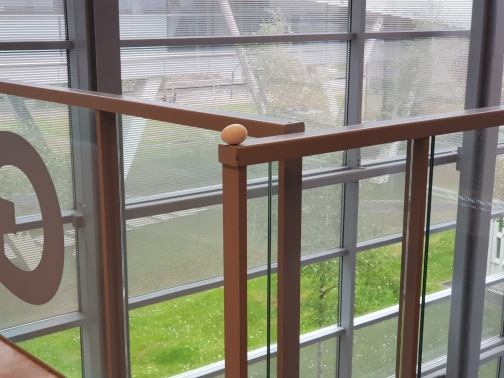egg: (218, 122, 248, 145)
